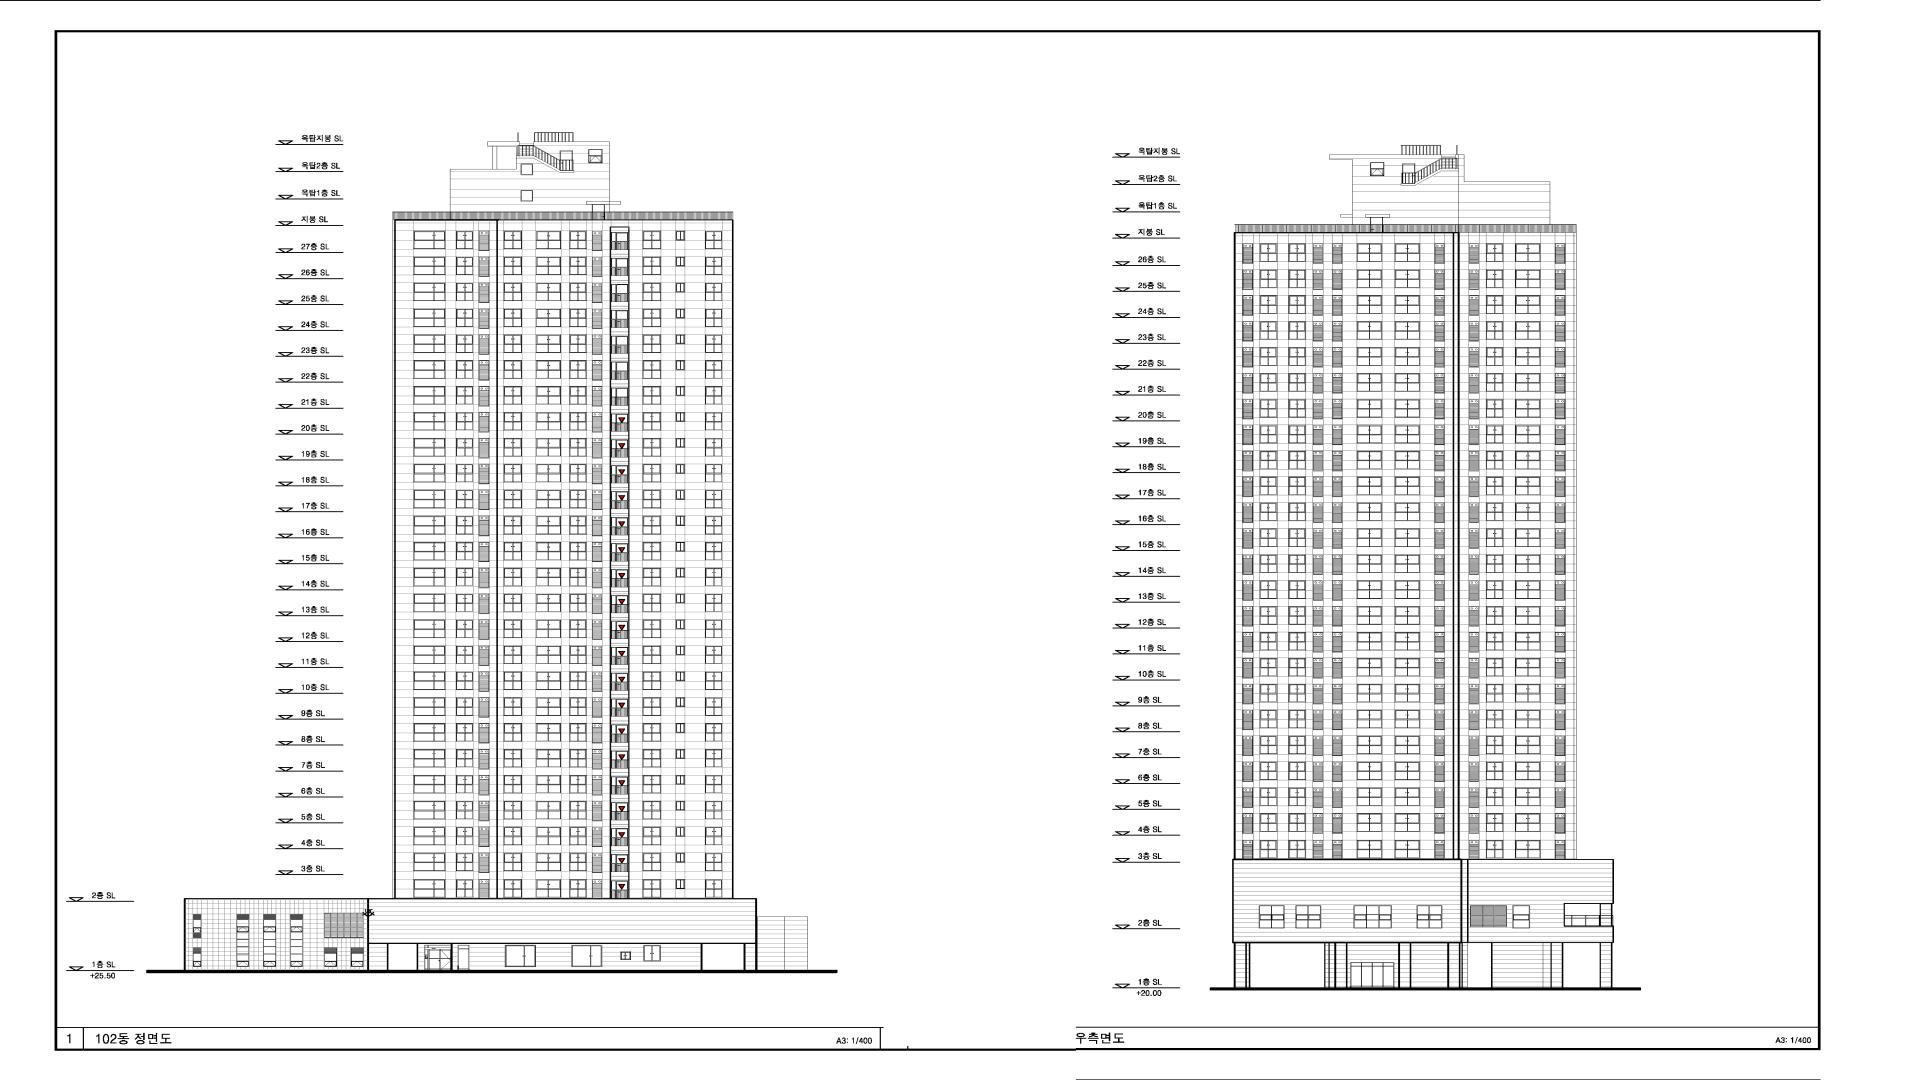-_-: (559, 150, 574, 170)
door: (1250, 943, 1324, 988), (1563, 943, 1600, 988), (703, 944, 744, 971), (425, 945, 440, 971), (440, 945, 451, 971), (1402, 164, 1415, 183), (1370, 218, 1383, 232)
wall: (183, 141, 757, 973), (1232, 154, 1614, 990)
window: (1350, 963, 1394, 988), (324, 913, 364, 938), (1564, 903, 1601, 927), (1354, 906, 1391, 928), (1470, 906, 1506, 927), (571, 945, 603, 967), (413, 282, 446, 302), (413, 438, 446, 458), (413, 593, 446, 613), (413, 800, 446, 820), (413, 827, 446, 847), (505, 945, 535, 967), (290, 919, 303, 967), (413, 231, 446, 249), (413, 257, 446, 276), (413, 309, 446, 327), (413, 360, 446, 378), (413, 413, 446, 431), (413, 464, 446, 483), (413, 491, 446, 509), (413, 516, 446, 534), (413, 542, 446, 560), (413, 568, 446, 587), (413, 620, 446, 638), (413, 698, 446, 716), (413, 880, 446, 898), (1295, 906, 1321, 928), (414, 335, 446, 353), (414, 386, 446, 405), (414, 646, 446, 665), (414, 671, 446, 690), (414, 724, 446, 742), (414, 749, 446, 767), (414, 775, 446, 794), (414, 853, 446, 872), (237, 919, 249, 967), (264, 919, 276, 967), (1259, 906, 1284, 928), (1416, 906, 1441, 928), (535, 880, 562, 898), (535, 231, 562, 249), (535, 256, 562, 274), (535, 282, 562, 301), (535, 309, 562, 327), (535, 334, 562, 352), (535, 360, 562, 378), (535, 386, 562, 405), (535, 413, 562, 431), (535, 438, 562, 456), (535, 489, 562, 508), (535, 516, 562, 534), (535, 542, 562, 560), (535, 568, 562, 587), (535, 593, 562, 612), (535, 620, 562, 638), (535, 645, 562, 663), (535, 671, 562, 690), (535, 698, 562, 716), (535, 723, 562, 741), (535, 749, 562, 767), (535, 775, 562, 794), (535, 802, 562, 820), (535, 827, 562, 845), (535, 852, 562, 870), (1515, 269, 1542, 287), (1515, 322, 1542, 340), (1515, 425, 1542, 443), (1515, 554, 1542, 572), (1515, 684, 1542, 703), (1515, 787, 1542, 806), (1515, 814, 1542, 832), (1394, 840, 1420, 858), (1394, 787, 1420, 806), (1394, 425, 1420, 443), (1394, 400, 1420, 418), (1394, 373, 1420, 392), (1394, 347, 1420, 365), (1394, 269, 1420, 287), (535, 464, 560, 483), (1515, 244, 1540, 262), (1515, 295, 1540, 314), (1515, 347, 1540, 365), (1515, 373, 1540, 392), (1515, 451, 1540, 469), (1515, 476, 1540, 495), (1515, 502, 1540, 521), (1515, 529, 1540, 547), (1515, 580, 1540, 599), (1515, 607, 1540, 625), (1515, 632, 1540, 650), (1515, 709, 1540, 728), (1515, 736, 1540, 754), (1357, 451, 1382, 469), (1357, 476, 1382, 495), (1357, 502, 1382, 521), (1357, 529, 1382, 547), (1357, 580, 1382, 599), (1357, 632, 1382, 650), (1357, 658, 1382, 676), (1357, 684, 1382, 703), (1357, 709, 1382, 728), (1357, 736, 1382, 754), (1357, 787, 1382, 806), (1357, 840, 1382, 858), (1515, 840, 1540, 858), (1395, 761, 1420, 779), (1395, 736, 1420, 754), (1395, 709, 1420, 728), (1395, 684, 1420, 703), (1395, 658, 1420, 676), (1395, 632, 1420, 650), (1395, 607, 1420, 625), (1395, 580, 1420, 599), (1395, 554, 1420, 572), (1395, 529, 1420, 547), (1395, 502, 1420, 521), (1395, 476, 1420, 495), (1395, 451, 1420, 469), (1395, 322, 1420, 340), (1395, 295, 1420, 314), (1357, 269, 1382, 287), (1357, 295, 1382, 314), (1357, 322, 1382, 340), (1357, 347, 1382, 365), (1357, 373, 1382, 392), (1357, 400, 1382, 418), (1357, 425, 1382, 443), (1515, 400, 1542, 417), (1394, 244, 1420, 261), (1515, 658, 1540, 675), (1515, 762, 1540, 779), (1357, 555, 1382, 572), (1357, 607, 1382, 624), (1357, 762, 1382, 779), (1357, 814, 1382, 831), (1395, 814, 1420, 831), (1357, 244, 1382, 261), (1513, 906, 1531, 928), (642, 827, 662, 845), (642, 620, 662, 638), (642, 516, 662, 534), (642, 309, 662, 327), (642, 282, 662, 301), (704, 464, 723, 483), (704, 723, 723, 741), (642, 880, 661, 898), (642, 800, 661, 819), (642, 775, 661, 794), (642, 749, 661, 767), (642, 723, 661, 741), (642, 698, 661, 716), (642, 671, 661, 690), (642, 645, 661, 663), (642, 593, 661, 612), (642, 542, 661, 560), (642, 464, 661, 483), (611, 465, 629, 484), (568, 646, 587, 665), (568, 360, 587, 378), (568, 231, 587, 249), (704, 257, 723, 276), (704, 309, 723, 327), (504, 231, 522, 249), (504, 256, 522, 274), (504, 282, 522, 301), (504, 309, 522, 327), (504, 335, 522, 353), (504, 360, 522, 378), (504, 386, 522, 405), (504, 413, 522, 431), (504, 438, 522, 456), (504, 464, 522, 483), (504, 489, 522, 508), (504, 516, 522, 534), (504, 542, 522, 560), (504, 567, 522, 585), (504, 593, 522, 612), (504, 620, 522, 638), (504, 646, 522, 665), (504, 671, 522, 690), (504, 698, 522, 716), (504, 749, 522, 767), (504, 775, 522, 794), (504, 800, 522, 819), (504, 827, 522, 845), (504, 852, 522, 870), (504, 880, 522, 898), (642, 438, 661, 456), (642, 413, 661, 431), (642, 386, 661, 405), (642, 360, 661, 378), (642, 334, 661, 352), (642, 256, 661, 274), (642, 231, 661, 249), (1259, 761, 1278, 779), (1259, 658, 1278, 676), (1259, 607, 1278, 625), (1259, 502, 1278, 521), (642, 853, 662, 870), (642, 568, 662, 585), (456, 567, 473, 587), (1288, 554, 1305, 574), (1261, 243, 1278, 262), (705, 438, 723, 456), (705, 489, 723, 508), (705, 516, 723, 534), (705, 542, 723, 560), (705, 567, 723, 585), (705, 593, 723, 612), (705, 620, 723, 638), (705, 646, 723, 665), (705, 671, 723, 690), (705, 698, 723, 716), (705, 749, 723, 767), (705, 775, 723, 794), (705, 800, 723, 819), (705, 827, 723, 845), (705, 852, 723, 870), (705, 880, 723, 898), (642, 491, 661, 508), (611, 802, 628, 820), (611, 750, 628, 769), (611, 724, 628, 742), (611, 699, 628, 717), (611, 673, 628, 691), (611, 621, 628, 640), (612, 595, 629, 613), (611, 543, 628, 562), (611, 517, 628, 535), (611, 491, 628, 509), (611, 439, 628, 458), (611, 361, 628, 380), (611, 284, 628, 302), (456, 880, 473, 898), (456, 853, 473, 872), (456, 827, 473, 845), (456, 800, 473, 819), (456, 775, 473, 794), (456, 749, 473, 767), (456, 723, 473, 741), (456, 698, 473, 716), (456, 671, 473, 690), (456, 620, 473, 638), (456, 593, 473, 612), (456, 542, 473, 560), (456, 516, 473, 534), (456, 464, 473, 483), (570, 880, 587, 898), (570, 853, 587, 872), (570, 827, 587, 845), (570, 800, 587, 819), (570, 775, 587, 794), (570, 749, 587, 767), (570, 723, 587, 741), (570, 698, 587, 716), (570, 671, 587, 690), (570, 620, 587, 638), (570, 593, 587, 612), (570, 568, 587, 587), (570, 542, 587, 560), (570, 516, 587, 534), (570, 464, 587, 483), (570, 438, 587, 456), (570, 413, 587, 431), (570, 386, 587, 405), (570, 335, 587, 353), (570, 309, 587, 327), (570, 282, 587, 301), (570, 256, 587, 274), (705, 231, 723, 249), (705, 282, 723, 301), (705, 335, 723, 353), (705, 360, 723, 378), (705, 386, 723, 405), (456, 438, 473, 456), (456, 386, 473, 405), (456, 360, 473, 378), (456, 309, 473, 327), (456, 282, 473, 301), (456, 231, 473, 249), (504, 724, 522, 741), (1486, 347, 1503, 365), (1486, 322, 1503, 340), (1486, 295, 1503, 314), (1486, 269, 1503, 287), (1486, 244, 1503, 262), (1288, 244, 1305, 262), (1288, 269, 1305, 287), (1288, 295, 1305, 314), (1288, 322, 1305, 340), (1288, 347, 1305, 365), (1288, 373, 1305, 392), (1288, 425, 1305, 443), (1288, 451, 1305, 469), (1288, 477, 1305, 496), (1288, 502, 1305, 521), (1288, 529, 1305, 547), (1288, 580, 1305, 599), (1288, 607, 1305, 625), (1288, 632, 1305, 650), (1288, 658, 1305, 676), (1288, 684, 1305, 703), (1288, 709, 1305, 728), (1288, 736, 1305, 754), (1288, 762, 1305, 781), (1288, 787, 1305, 806), (1288, 814, 1305, 832), (1288, 840, 1305, 858), (1259, 840, 1276, 858), (1259, 814, 1276, 832), (1259, 787, 1276, 806), (1261, 736, 1278, 754), (1259, 709, 1276, 728), (1486, 840, 1503, 858), (1486, 814, 1503, 832), (1486, 787, 1503, 806), (1486, 761, 1503, 779), (1486, 736, 1503, 754), (1486, 709, 1503, 728), (1486, 684, 1503, 703), (1486, 658, 1503, 676), (1486, 632, 1503, 650), (1486, 580, 1503, 599), (1486, 554, 1503, 572), (1486, 529, 1503, 547), (1486, 502, 1503, 521), (1486, 451, 1503, 469), (1486, 425, 1503, 443), (1486, 398, 1503, 417), (1486, 373, 1503, 392), (1259, 684, 1276, 703), (1259, 632, 1276, 650), (1259, 580, 1276, 599), (1259, 554, 1276, 572), (1259, 529, 1276, 547), (1259, 476, 1276, 495), (1259, 451, 1276, 469), (1261, 425, 1278, 443), (1259, 400, 1276, 418), (1259, 373, 1276, 392), (1259, 347, 1276, 365), (1259, 322, 1276, 340), (1261, 295, 1278, 314), (1259, 269, 1276, 287), (611, 855, 628, 872), (611, 828, 628, 845), (611, 777, 628, 794), (611, 647, 628, 665), (611, 570, 628, 587), (612, 414, 629, 431), (611, 388, 628, 405), (611, 336, 628, 353), (611, 310, 628, 327), (611, 258, 628, 276), (611, 232, 628, 249), (456, 646, 473, 663), (456, 491, 473, 508), (570, 491, 587, 508), (705, 413, 723, 430), (456, 413, 473, 430), (456, 335, 473, 352), (456, 257, 473, 274), (612, 881, 629, 898), (1288, 400, 1305, 417), (1486, 607, 1503, 624), (1486, 477, 1503, 495), (644, 945, 661, 961), (459, 945, 469, 971), (1242, 322, 1254, 342), (1242, 348, 1254, 368), (1242, 425, 1254, 444), (1242, 607, 1254, 626), (1242, 814, 1254, 833), (1312, 244, 1324, 264), (479, 282, 489, 303), (479, 360, 489, 381), (479, 438, 489, 459), (479, 593, 489, 615), (479, 723, 489, 744), (479, 800, 489, 822), (1242, 269, 1253, 290), (1242, 476, 1253, 497), (1242, 502, 1253, 524), (1242, 554, 1253, 575), (1242, 632, 1253, 653), (1244, 709, 1254, 731), (1555, 476, 1565, 497), (1555, 398, 1565, 419), (1312, 709, 1323, 731), (1313, 554, 1324, 575), (1313, 502, 1324, 524), (1313, 476, 1324, 497), (1313, 347, 1324, 368), (1313, 269, 1324, 290), (1332, 269, 1342, 290), (1332, 347, 1342, 368), (1332, 425, 1342, 446), (1332, 502, 1342, 524), (1332, 554, 1342, 575), (1469, 269, 1480, 290), (1469, 347, 1480, 368), (1469, 425, 1480, 446), (1469, 476, 1480, 497), (1469, 502, 1480, 524), (1469, 554, 1480, 575), (1469, 632, 1480, 653), (1469, 709, 1480, 731), (1469, 761, 1480, 782), (1555, 709, 1565, 731), (1555, 632, 1565, 653), (1332, 580, 1342, 601), (1332, 709, 1342, 731), (1435, 709, 1445, 731), (1435, 632, 1445, 653), (1433, 502, 1444, 524), (1433, 476, 1444, 497), (1435, 347, 1445, 368), (1435, 269, 1445, 290), (588, 149, 603, 164), (1370, 162, 1385, 177), (592, 853, 603, 873), (592, 800, 603, 820), (592, 775, 603, 795), (592, 749, 603, 769), (592, 698, 603, 717), (592, 646, 603, 666), (592, 620, 603, 640), (592, 568, 603, 588), (592, 542, 603, 562), (592, 464, 603, 484), (592, 438, 603, 458), (592, 413, 603, 433), (592, 386, 603, 406), (592, 360, 603, 380), (592, 335, 603, 355), (592, 309, 603, 328), (592, 257, 603, 277), (479, 231, 489, 251), (479, 257, 489, 277), (479, 309, 489, 328), (479, 335, 489, 355), (479, 386, 489, 406), (479, 413, 489, 433), (479, 464, 489, 484), (479, 491, 489, 510), (479, 516, 489, 535), (479, 542, 489, 562), (479, 568, 489, 588), (479, 620, 489, 640), (479, 646, 489, 666), (479, 671, 489, 691), (479, 698, 489, 717), (479, 749, 489, 769), (479, 775, 489, 795), (479, 827, 489, 847), (479, 853, 489, 873), (1242, 244, 1253, 264), (1242, 295, 1253, 315), (1242, 373, 1253, 393), (1242, 400, 1253, 419), (1242, 451, 1253, 471), (1244, 529, 1254, 549), (1242, 580, 1253, 600), (1242, 658, 1253, 678), (1242, 684, 1253, 704), (1242, 736, 1253, 756), (1244, 762, 1254, 782), (1242, 787, 1253, 807), (1242, 840, 1253, 860), (1312, 840, 1323, 860), (1332, 840, 1342, 860), (1313, 814, 1324, 833), (1312, 787, 1323, 807), (1555, 580, 1565, 600), (1555, 555, 1565, 575), (1555, 529, 1565, 549), (1555, 502, 1565, 522), (1555, 451, 1565, 471), (1555, 425, 1565, 444), (1555, 373, 1565, 393), (1555, 347, 1565, 367), (1555, 322, 1565, 342), (1555, 295, 1565, 315), (1555, 269, 1565, 289), (1555, 244, 1565, 264), (1313, 762, 1324, 782), (1312, 736, 1323, 756), (1312, 684, 1323, 704), (1312, 658, 1323, 678), (1313, 632, 1324, 651), (1313, 607, 1324, 626), (1312, 580, 1323, 600), (1312, 529, 1323, 549), (1313, 451, 1324, 471), (1312, 425, 1323, 444), (1313, 400, 1324, 419), (1313, 373, 1324, 393), (1313, 322, 1324, 342), (1312, 295, 1323, 315), (1332, 244, 1342, 264), (1332, 295, 1342, 315), (1332, 322, 1342, 342), (1332, 373, 1342, 393), (1332, 400, 1342, 419), (1332, 451, 1342, 471), (1332, 477, 1342, 497), (1332, 529, 1342, 549), (1469, 244, 1480, 264), (1469, 295, 1480, 315), (1469, 322, 1480, 342), (1469, 373, 1480, 393), (1469, 400, 1480, 419), (1469, 451, 1480, 471), (1469, 529, 1480, 549), (1469, 580, 1480, 600), (1469, 607, 1480, 626), (1469, 658, 1480, 678), (1469, 684, 1480, 704), (1469, 736, 1480, 756), (1469, 787, 1480, 807), (1469, 814, 1480, 833), (1469, 840, 1480, 860), (1555, 840, 1565, 860), (1555, 814, 1565, 833), (1555, 787, 1565, 807), (1555, 762, 1565, 782), (1555, 736, 1565, 756), (1555, 684, 1565, 704), (1555, 658, 1565, 678), (1555, 607, 1565, 626), (1332, 607, 1342, 626), (1332, 633, 1342, 653), (1332, 658, 1342, 678), (1332, 684, 1342, 704), (1332, 736, 1342, 756), (1332, 762, 1342, 782), (1332, 787, 1342, 807), (1332, 814, 1342, 833), (1435, 814, 1445, 833), (1435, 787, 1445, 807), (1435, 762, 1445, 782), (1435, 736, 1445, 756), (1435, 684, 1445, 704), (1435, 658, 1445, 678), (1435, 607, 1445, 626), (1435, 580, 1445, 600), (1435, 555, 1445, 575), (1435, 529, 1445, 549), (1435, 451, 1445, 471), (1435, 425, 1445, 444), (1435, 400, 1445, 419), (1435, 373, 1445, 393), (1435, 322, 1445, 342), (1435, 295, 1445, 315), (1435, 244, 1445, 264), (592, 673, 603, 691), (592, 517, 603, 535), (479, 880, 489, 898), (1433, 840, 1444, 858), (592, 827, 601, 847), (592, 723, 601, 742), (592, 593, 601, 613), (592, 491, 601, 510), (592, 284, 601, 303), (592, 231, 601, 251), (324, 953, 338, 967), (351, 953, 364, 967), (592, 880, 601, 898), (521, 164, 533, 175), (521, 190, 533, 202), (193, 919, 202, 932), (193, 953, 202, 967), (675, 256, 684, 266), (675, 282, 684, 293), (675, 360, 684, 371), (675, 411, 684, 422), (675, 489, 684, 500), (675, 593, 684, 604), (675, 645, 684, 655), (675, 723, 684, 733), (675, 800, 684, 811), (675, 852, 684, 862), (675, 231, 684, 240), (675, 309, 684, 318), (675, 335, 684, 344), (675, 386, 684, 396), (675, 438, 684, 447), (675, 464, 684, 473), (675, 516, 684, 525), (675, 542, 684, 551), (675, 568, 684, 578), (675, 620, 684, 629), (675, 671, 684, 680), (675, 698, 684, 707), (675, 749, 684, 758), (675, 775, 684, 785), (675, 827, 684, 836), (675, 880, 684, 889), (621, 952, 630, 960), (236, 914, 249, 919), (262, 914, 276, 919), (290, 914, 303, 919), (324, 948, 338, 953), (351, 948, 364, 953), (193, 947, 202, 953), (193, 932, 202, 939), (193, 914, 202, 919)
